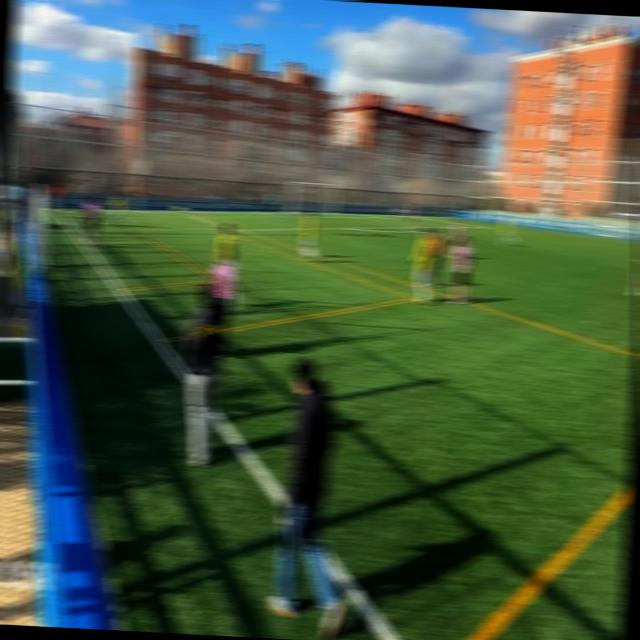bigarea_bottom_inner: (228, 226, 239, 236)
bigarea_bottom_outter: (173, 204, 187, 220)
bigarea_top_inner: (482, 222, 496, 232)
bottom_arc_area_intersection: (338, 221, 356, 237)
corner: (50, 204, 66, 216), (445, 214, 454, 218)
smallarea_bottom_inner: (271, 212, 284, 222)
smallarea_bottom_outter: (256, 210, 268, 216)
smallarea_top_inner: (377, 213, 387, 222)
smallarea_top_outter: (359, 211, 369, 217)
top_arc_area_intersection: (427, 222, 439, 233)
